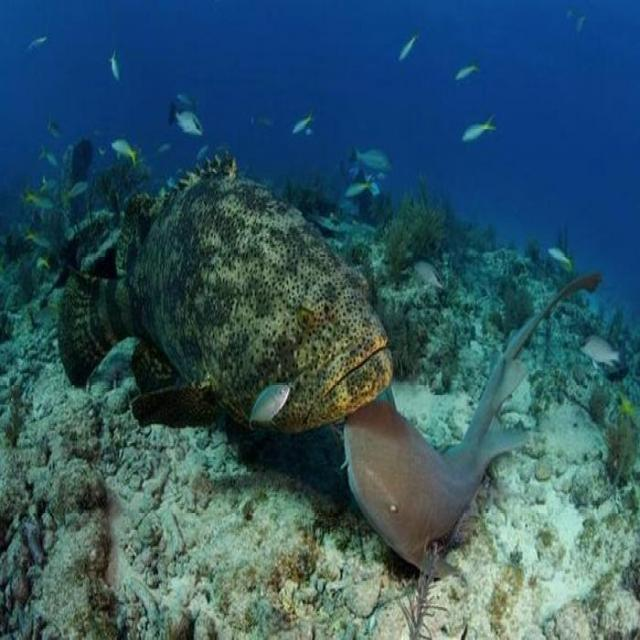grouper: (56, 171, 396, 439)
